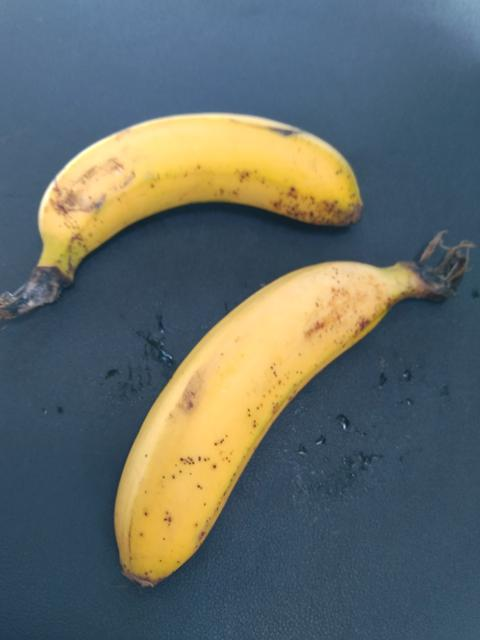ripe: (95, 261, 402, 587), (28, 84, 363, 302)
